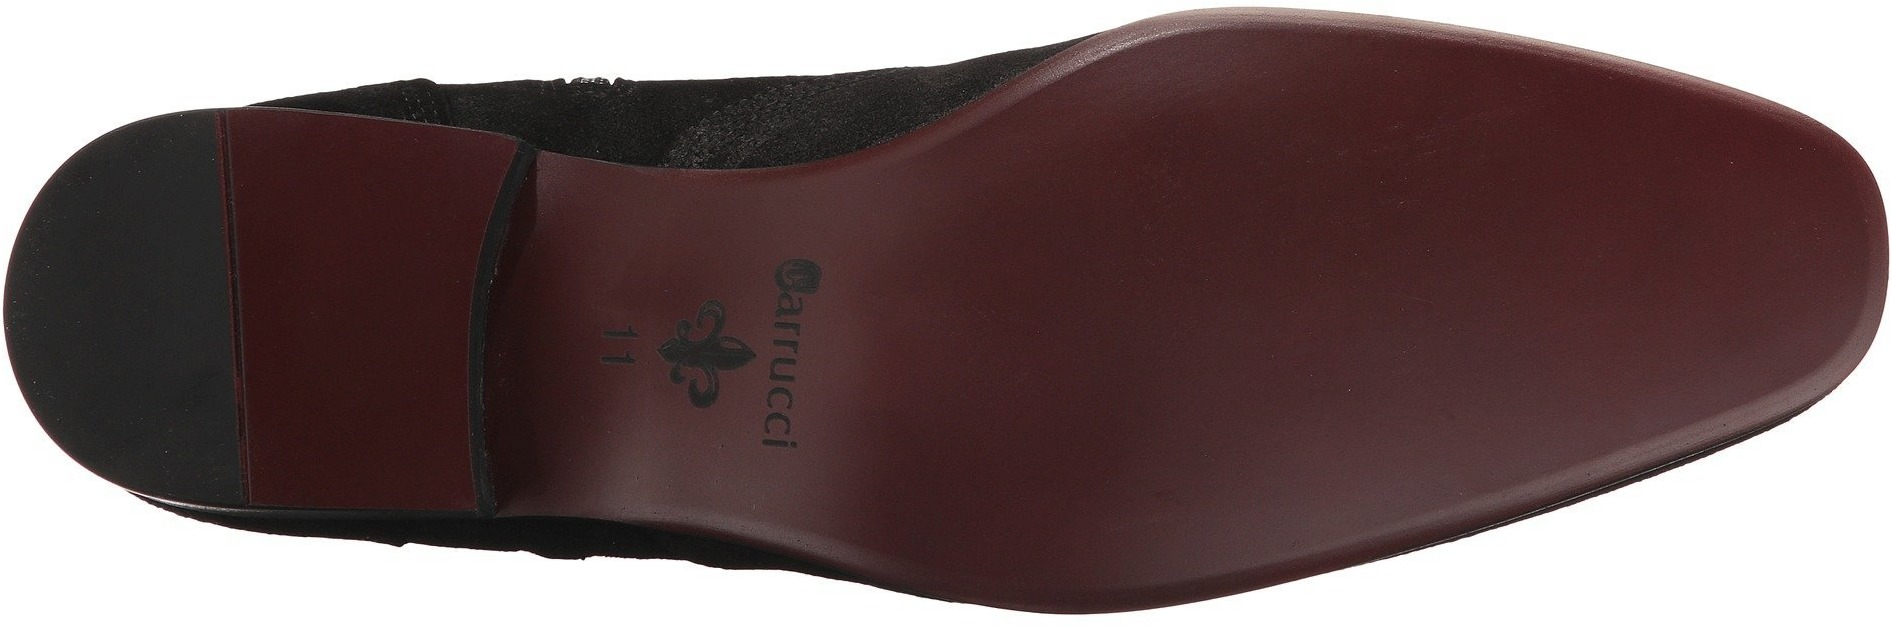exclude: (466, 84, 868, 568)
other: (878, 177, 1246, 531), (1246, 51, 1552, 346), (1570, 123, 1823, 363), (264, 172, 466, 367), (68, 207, 223, 400), (1266, 356, 1443, 514), (1111, 49, 1240, 170), (1452, 369, 1584, 479)
